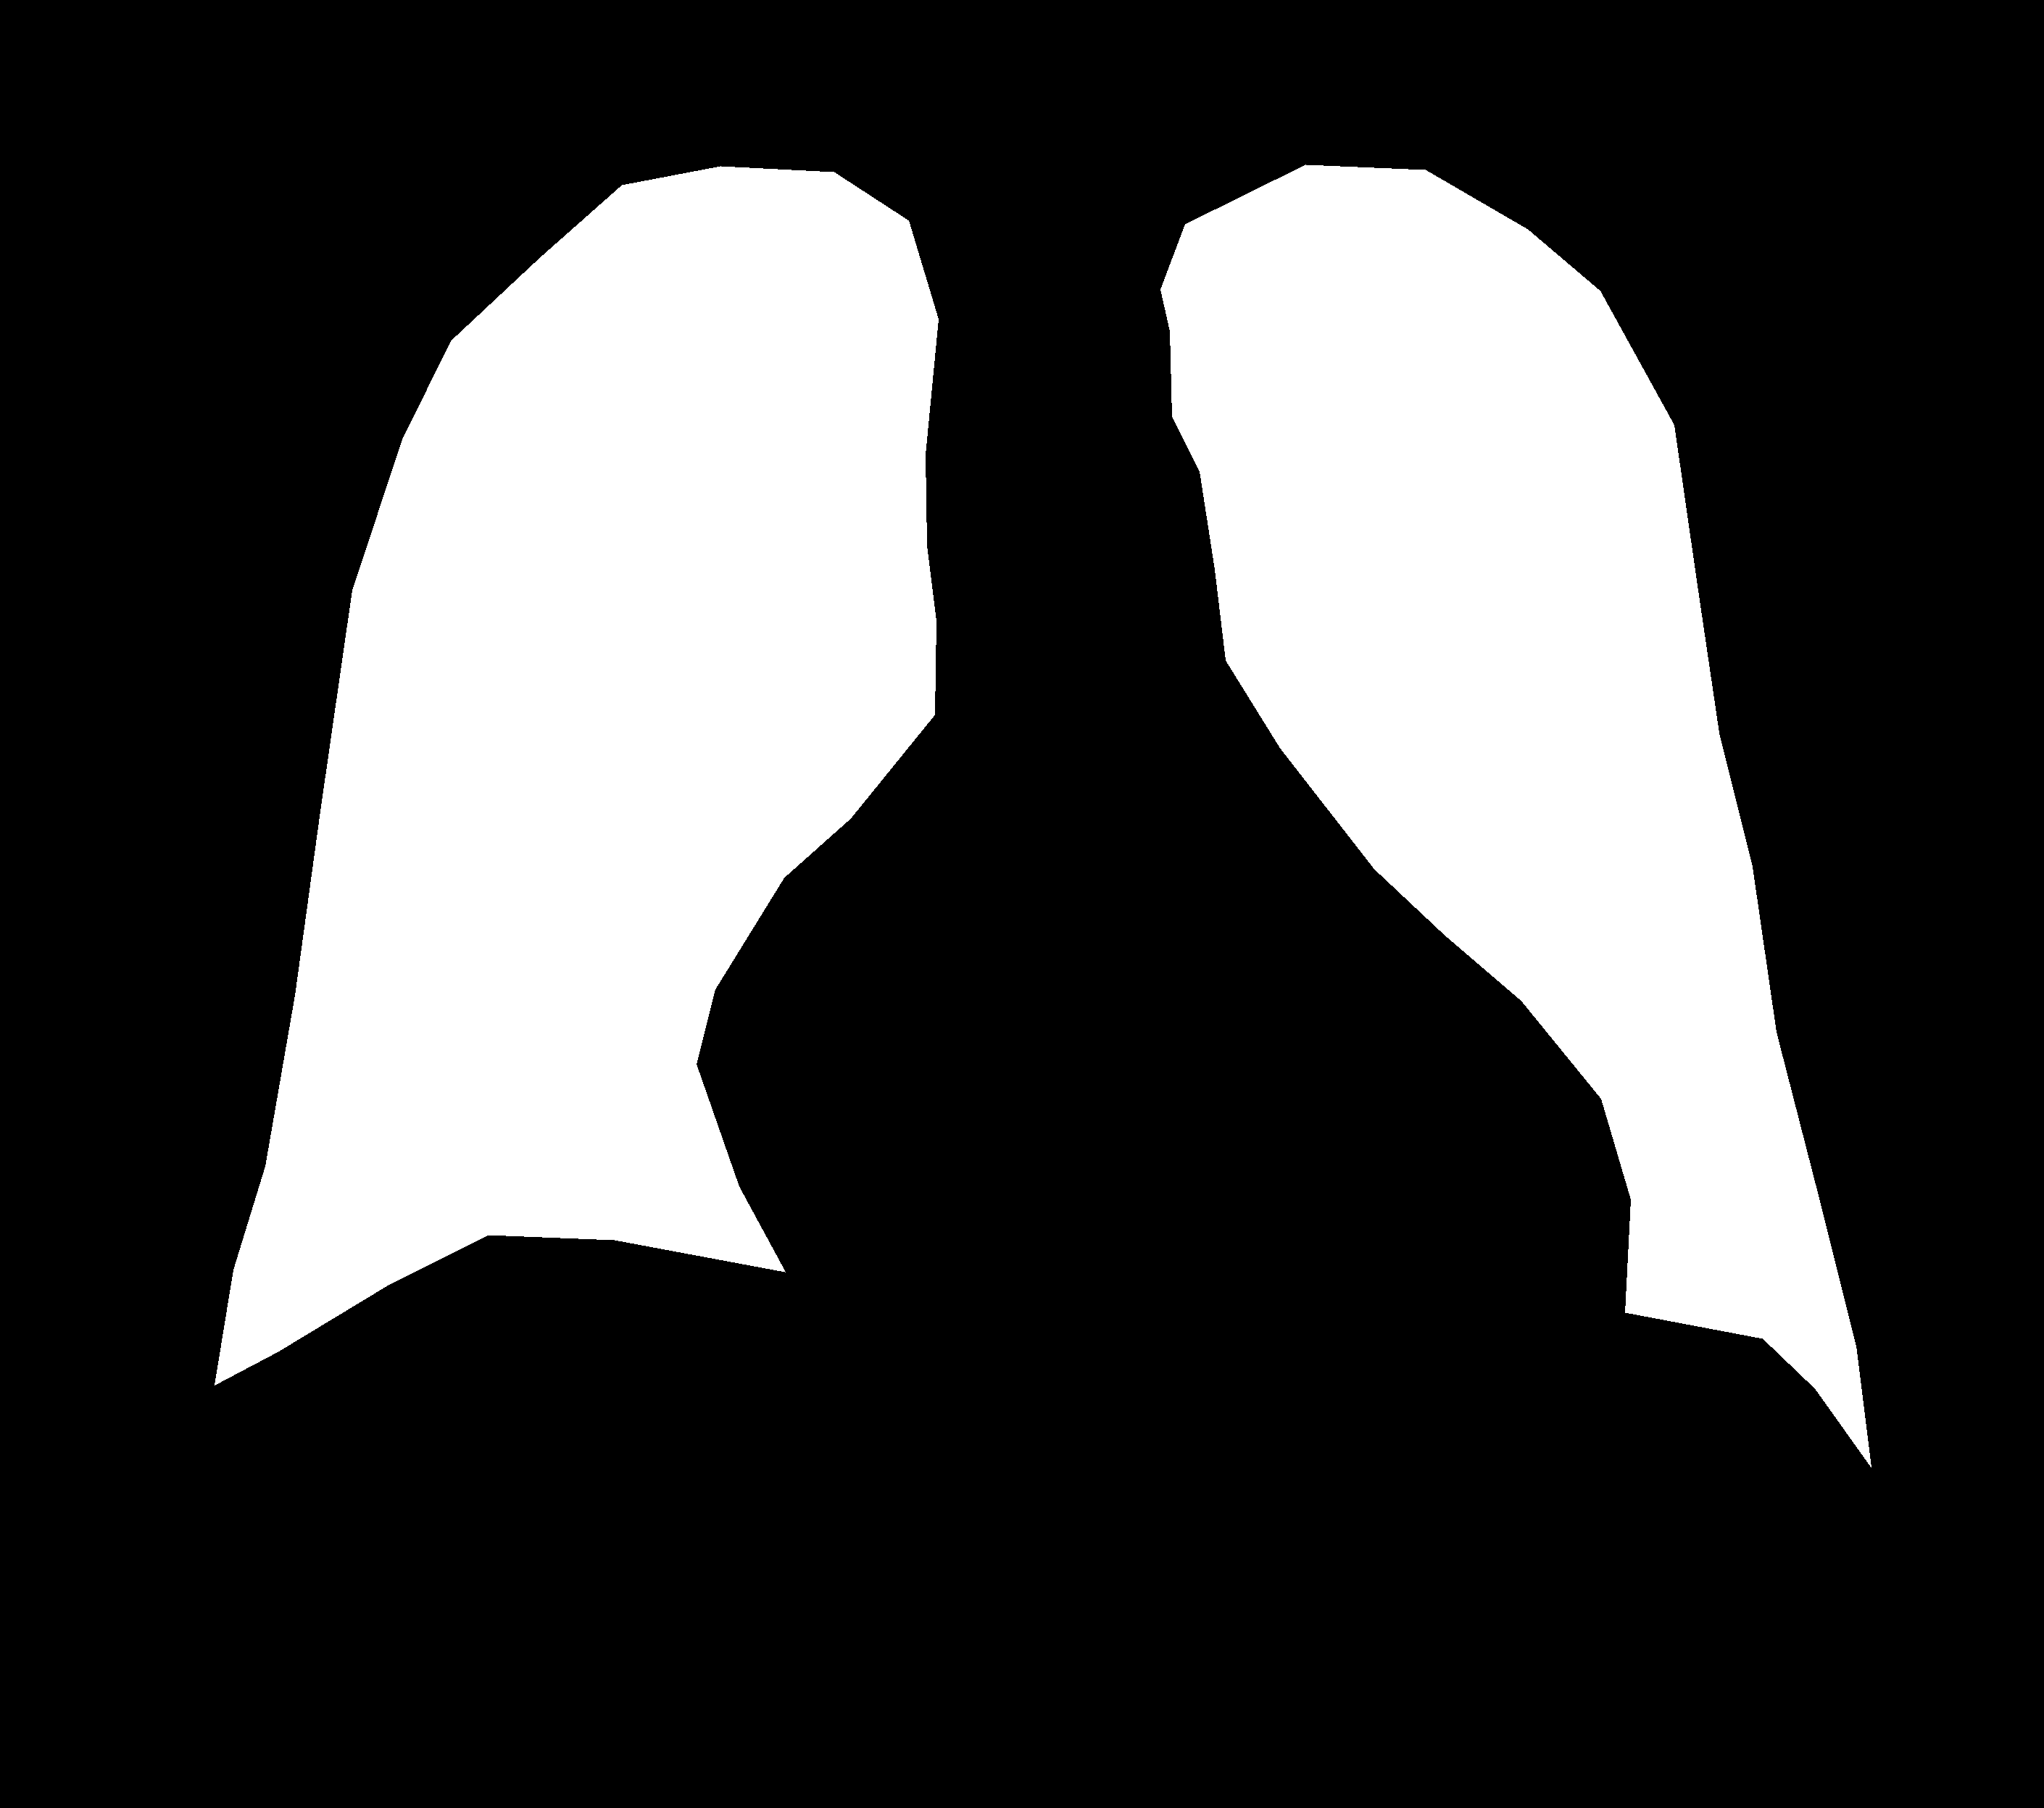heart: (702, 604, 1629, 1372)
left_lung: (215, 166, 937, 1386)
right_lung: (1161, 164, 1871, 1466)
